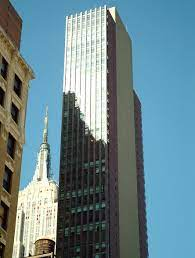Sky Building: (60, 12, 148, 253), (20, 97, 67, 252)
